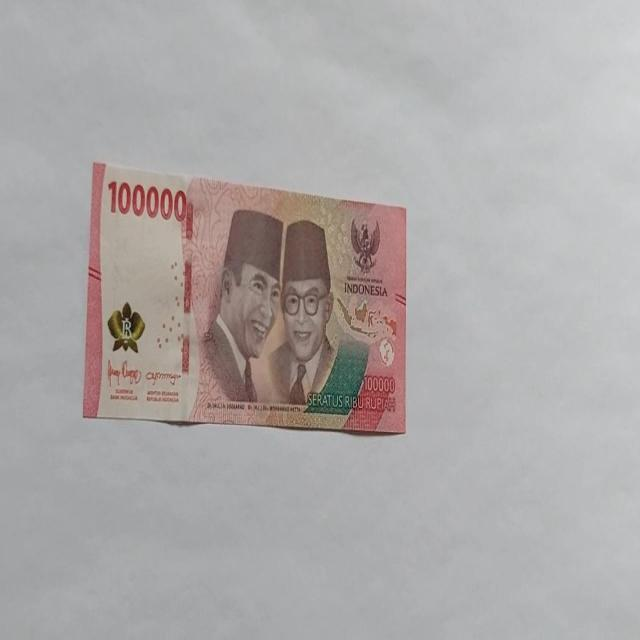Kertas: (82, 159, 408, 436), (106, 178, 188, 223)
